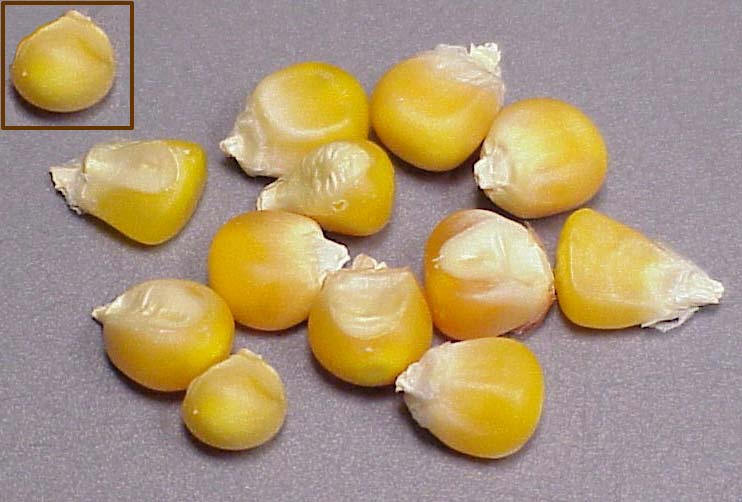corn: (555, 198, 722, 332), (418, 207, 557, 343), (393, 337, 546, 459), (206, 207, 347, 339), (369, 44, 508, 168), (222, 59, 367, 175), (92, 278, 234, 391), (310, 267, 434, 395), (51, 144, 208, 244), (474, 99, 606, 216), (9, 9, 117, 118), (182, 346, 287, 451)
